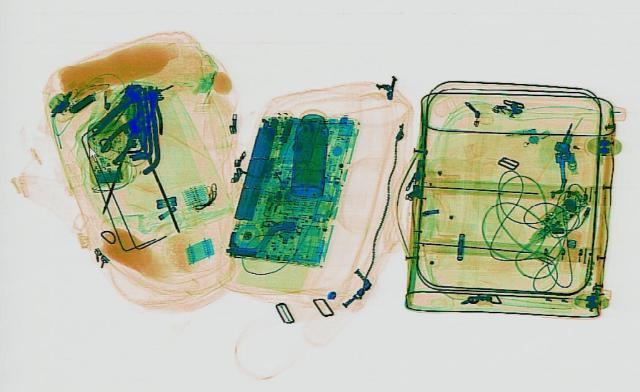Pliers: (92, 107, 154, 161)
Wrench: (80, 80, 148, 135)
